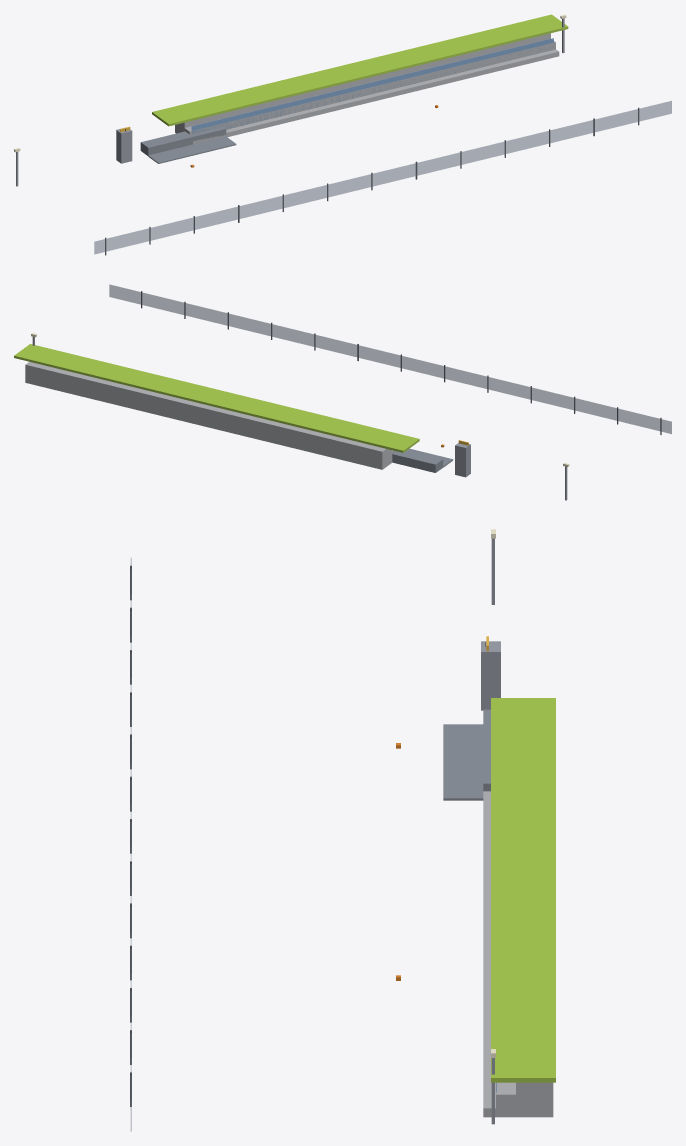
The model's file is venue_23.obj.
3 renders of one model, top to bottom at view 1: azimuth 30°, elevation 25°; view 2: azimuth 150°, elevation 25°; view 3: azimuth 270°, elevation 25°, orthographic. The views are drawn at different scales.
Bounding box in the file's own units: 520 × 32 × 170.
